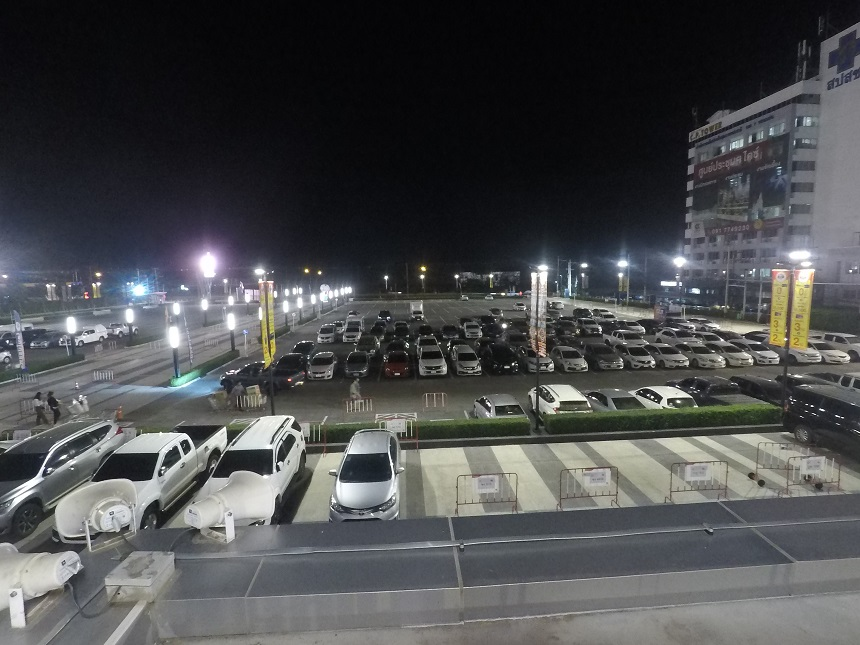busy: (335, 453, 394, 510), (18, 434, 86, 482), (121, 438, 195, 482), (807, 398, 860, 436), (230, 440, 294, 471), (468, 395, 523, 418), (532, 386, 575, 410), (638, 385, 680, 406), (697, 377, 732, 401), (785, 343, 818, 363), (594, 390, 629, 408), (749, 375, 779, 396), (487, 357, 520, 376), (590, 351, 621, 371), (786, 375, 820, 392), (419, 361, 449, 380), (693, 351, 723, 370), (341, 358, 369, 377), (558, 353, 587, 371), (834, 373, 860, 393), (661, 350, 688, 369), (308, 357, 332, 378), (628, 351, 653, 371), (385, 362, 411, 380), (278, 358, 303, 376), (526, 357, 552, 373), (824, 347, 847, 364), (455, 359, 479, 374), (830, 332, 855, 346), (757, 349, 778, 365), (730, 350, 752, 365)
